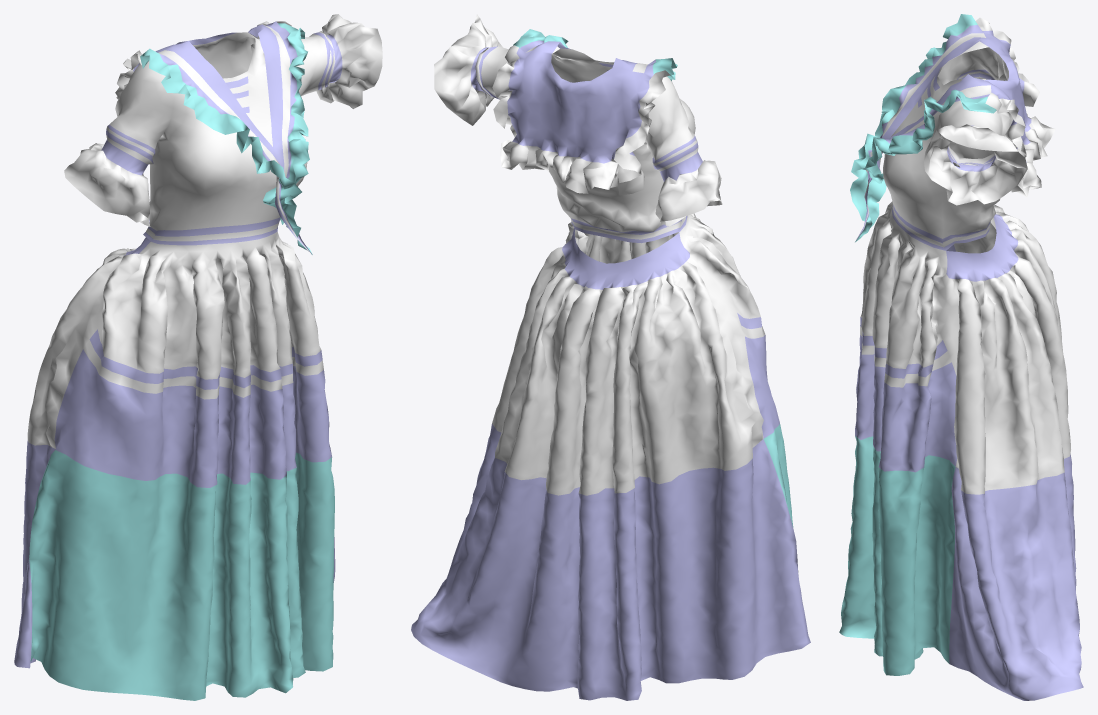
The model's file is asset08.glb.
The picture shows the model from 3 angles, left to right: view 1: azimuth 30°, elevation 25°; view 2: azimuth 150°, elevation 25°; view 3: azimuth 270°, elevation 25°; orthographic projection. The views are drawn at different scales.
Visible parts, largest first — view 1: 07; view 2: 07; view 3: 07.
Part boxes in pixels (x1,y1,x2,y2): 07: (14, 14, 382, 700); 07: (411, 14, 810, 700); 07: (839, 14, 1083, 700).
Size of the model in its own units: 6.27 by 10.65 by 3.87.
